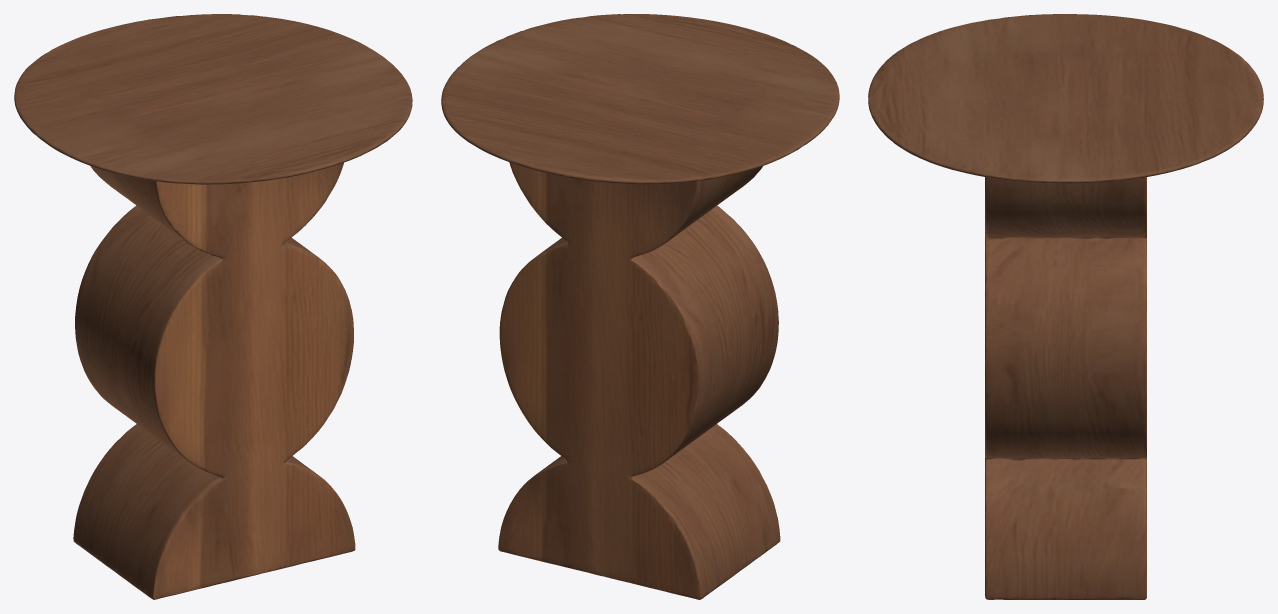
3 views of the same model, side by side, from view 1: azimuth 30°, elevation 25°; view 2: azimuth 150°, elevation 25°; view 3: azimuth 270°, elevation 25° (orthographic).
Parts seen in each view (by area): view 1: world; view 2: world; view 3: world.
Boxes of the visible parts, <box> form: world: <box>14,14,412,599</box>; world: <box>441,14,839,599</box>; world: <box>868,14,1263,599</box>.
Size of the model in its own units: 0.792 by 1 by 0.7919.
Materials: 1 (1 with a texture image).
